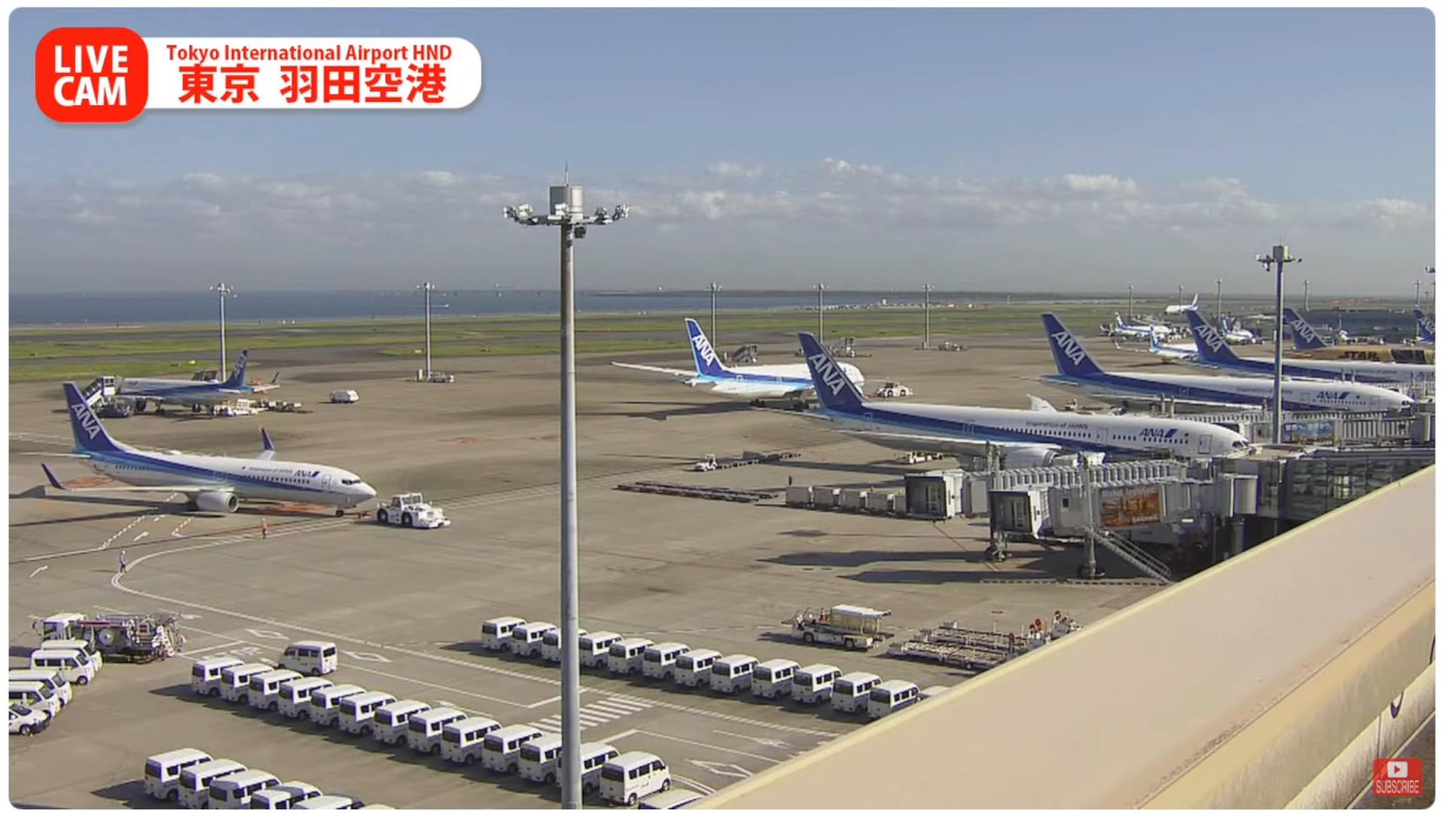APS: (371, 492, 452, 530)
Aerobridge: (904, 443, 1220, 528), (991, 451, 1256, 537)
Airplane: (19, 381, 380, 522)
JCPL: (918, 616, 1075, 656), (890, 639, 1018, 670)
Skyloader: (789, 603, 894, 653)
Window: (1290, 445, 1435, 519)
